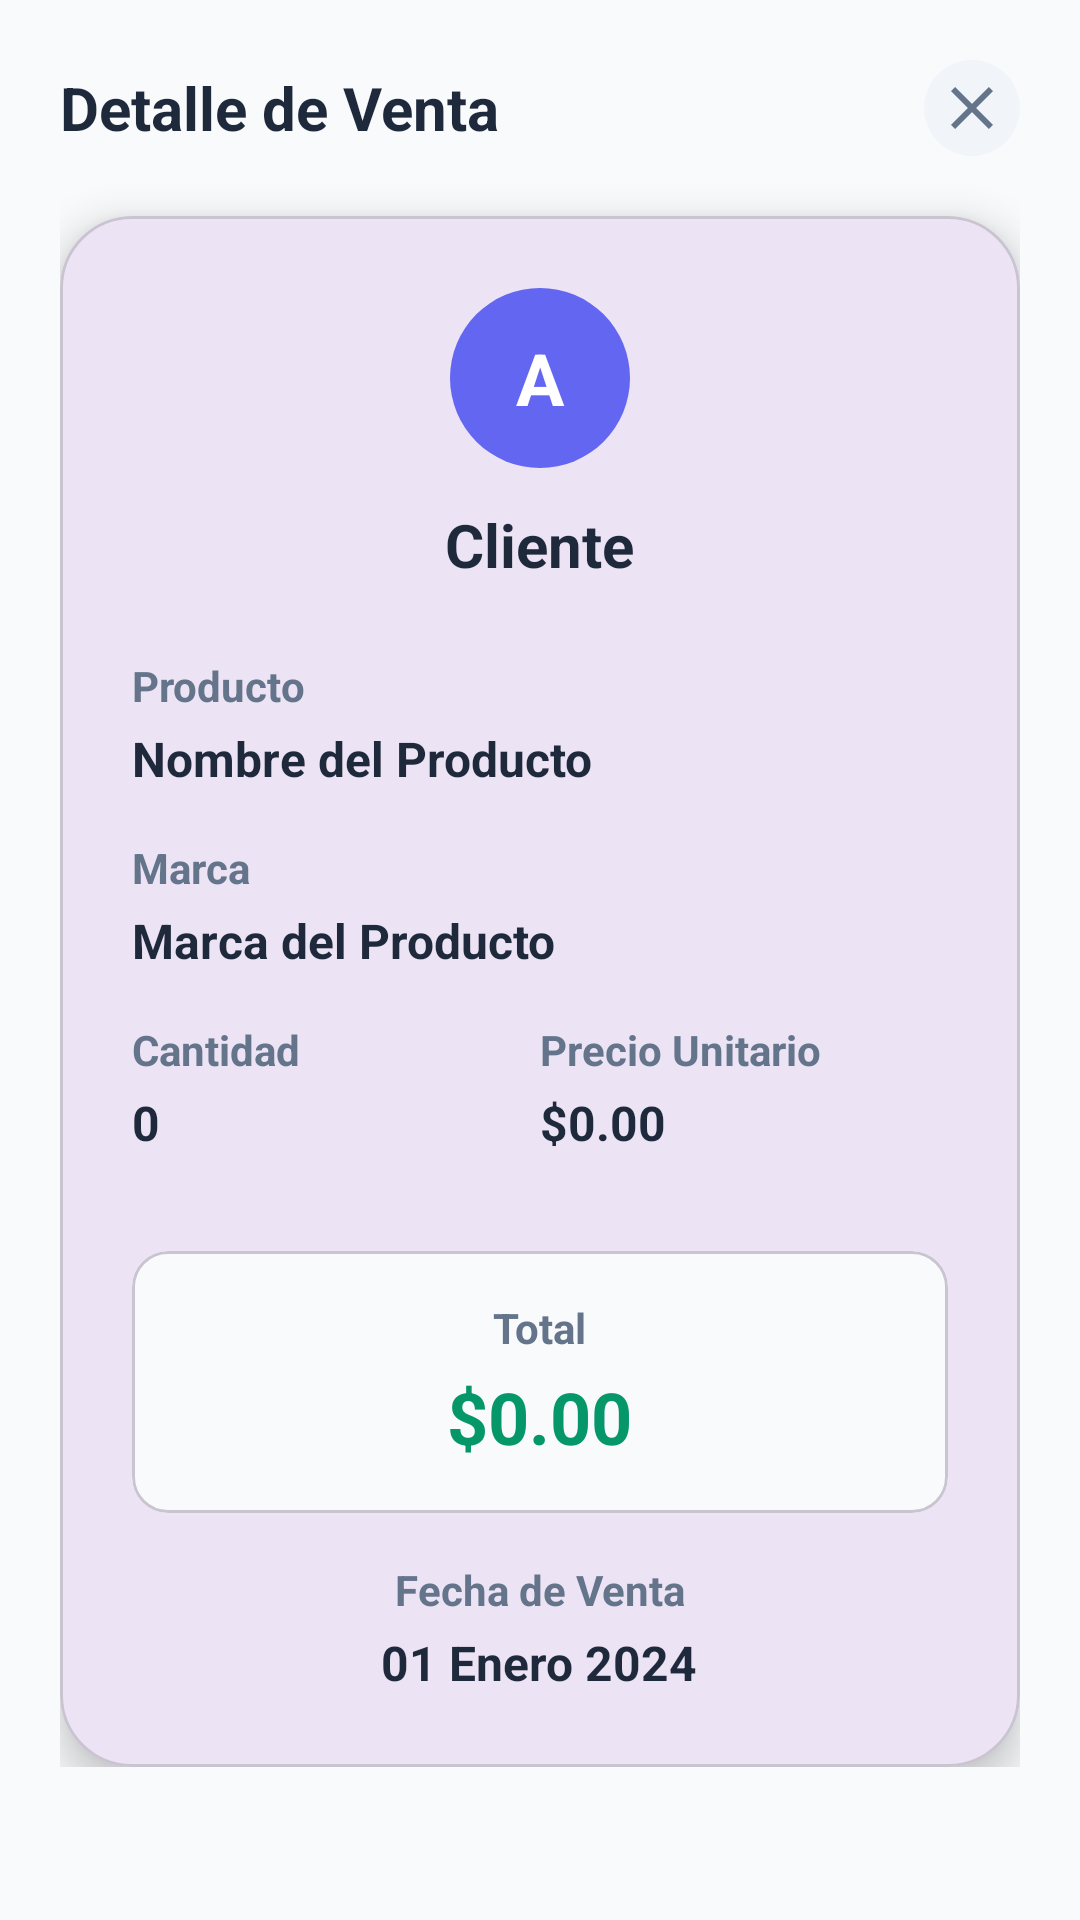

Point at icon controls on the screen. Image size 1080x1920, points as [x,y].
Cerrar: [972,108]
